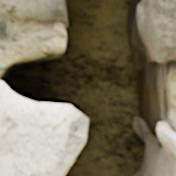broken_brick: (0, 81, 86, 175), (149, 0, 175, 63), (0, 0, 64, 21), (156, 122, 175, 175)
crack: (0, 0, 174, 175)
